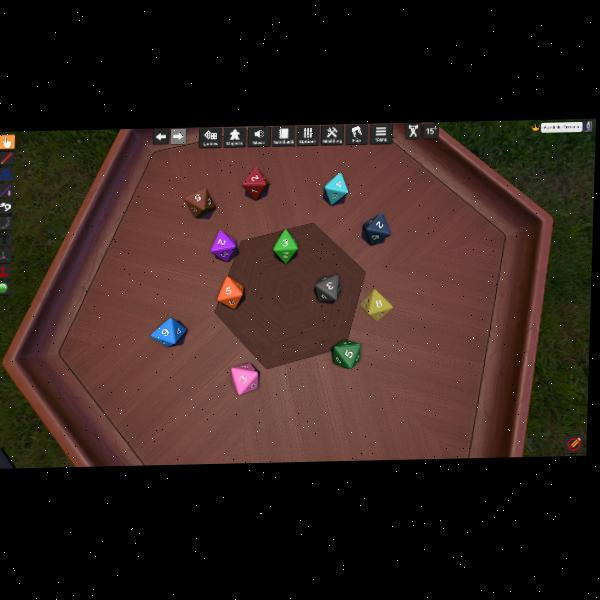d8: (151, 317, 187, 347), (360, 288, 392, 321), (231, 362, 260, 395), (241, 166, 269, 200), (184, 188, 214, 219), (218, 275, 245, 308), (273, 228, 298, 263), (209, 229, 236, 261), (362, 212, 388, 245), (332, 340, 360, 370), (323, 172, 347, 205), (314, 275, 338, 302)
